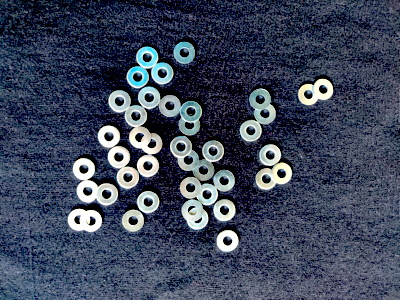circle: (158, 93, 184, 119), (258, 141, 283, 168), (121, 208, 147, 233), (216, 227, 241, 252), (249, 85, 273, 111), (138, 85, 162, 111), (173, 41, 198, 65), (72, 156, 96, 181), (136, 191, 160, 216), (255, 166, 278, 192), (297, 82, 321, 106), (239, 119, 263, 143), (152, 61, 176, 85), (116, 166, 140, 190), (203, 139, 227, 163), (213, 168, 237, 192), (213, 199, 237, 223), (124, 105, 149, 128), (98, 124, 121, 149), (80, 209, 103, 234), (107, 146, 132, 169), (191, 159, 216, 182), (255, 102, 278, 126), (177, 149, 201, 172), (179, 101, 204, 123), (96, 182, 118, 207), (137, 46, 160, 69), (68, 209, 91, 232), (137, 154, 160, 177), (170, 135, 193, 158), (179, 176, 202, 199), (186, 208, 209, 231), (126, 66, 150, 88), (108, 90, 132, 112), (141, 133, 165, 155), (179, 115, 202, 137), (129, 127, 152, 149), (181, 200, 204, 222), (271, 162, 292, 186), (76, 181, 100, 202), (196, 184, 218, 206), (314, 79, 334, 101)
